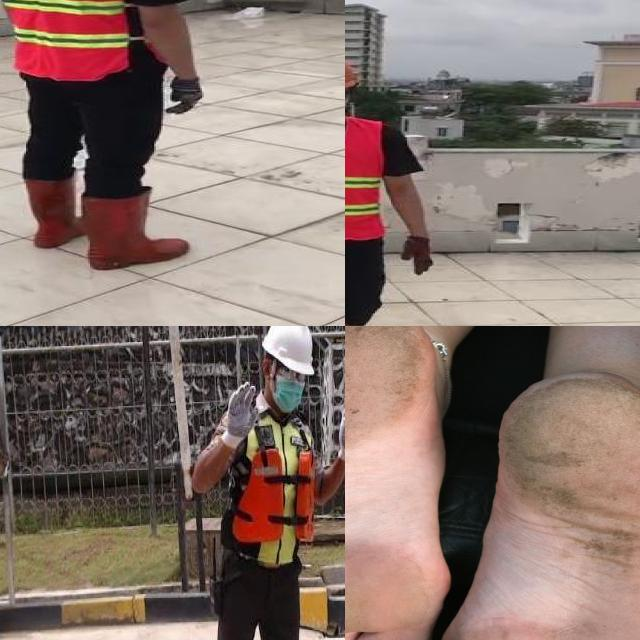Barefoots: (441, 371, 640, 640), (345, 326, 451, 640)
boots: (77, 189, 201, 271), (20, 172, 86, 250)
hand_glove: (163, 76, 209, 118), (402, 236, 434, 273)
head_helmet: (259, 326, 318, 387)
person: (0, 0, 215, 270), (171, 326, 345, 640), (345, 51, 437, 326)
vest: (221, 412, 321, 572), (0, 0, 132, 84), (345, 119, 383, 242)
